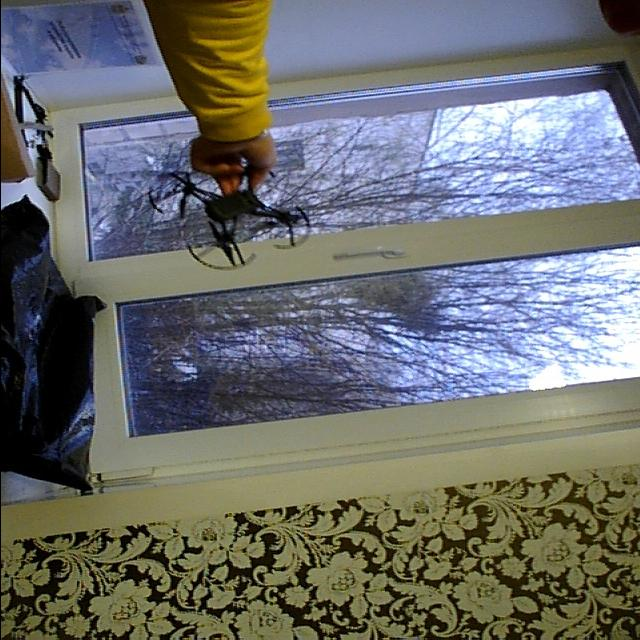drone: (142, 150, 328, 274)
